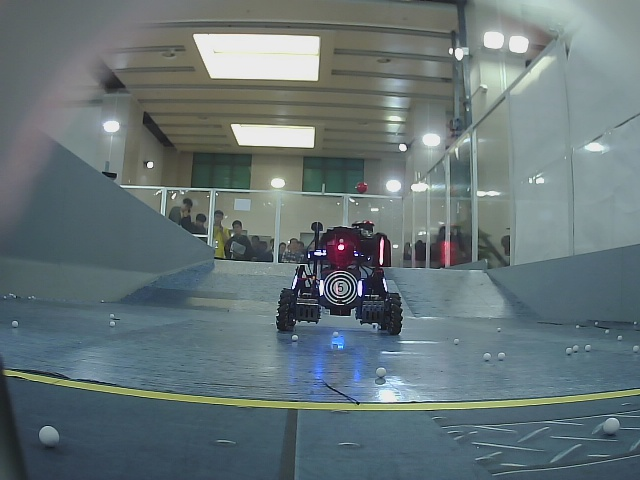lamp: (354, 276, 365, 298), (317, 276, 325, 299)
pair: (318, 279, 364, 297)
